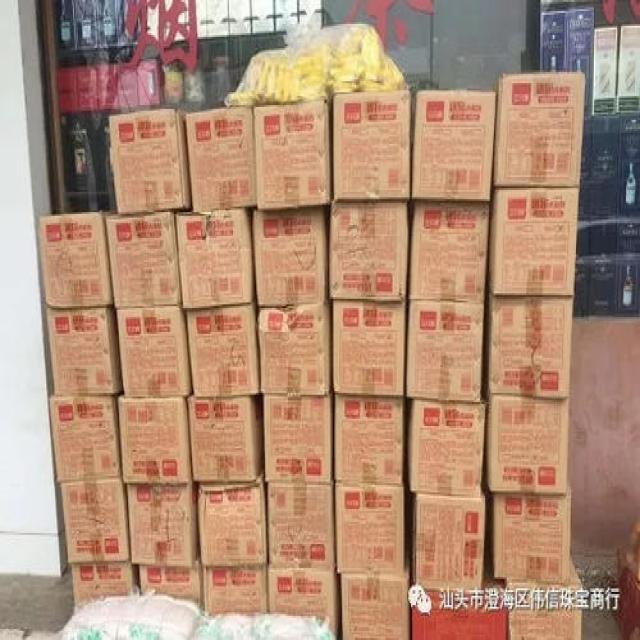box: (486, 189, 580, 298), (495, 71, 581, 187), (484, 286, 573, 398), (412, 90, 496, 202), (483, 390, 570, 496), (252, 103, 335, 210), (171, 207, 257, 309), (110, 110, 194, 214), (405, 295, 485, 403), (333, 92, 413, 198), (493, 479, 572, 584), (408, 202, 490, 301), (413, 487, 487, 593), (251, 205, 327, 307), (405, 400, 487, 494), (328, 202, 408, 298), (331, 296, 406, 398), (188, 104, 258, 212), (197, 467, 269, 569), (103, 212, 181, 304), (38, 211, 115, 304), (117, 304, 194, 396), (186, 301, 261, 395), (47, 391, 122, 483), (259, 301, 330, 397), (125, 483, 201, 570), (118, 397, 193, 485), (333, 395, 406, 485), (48, 304, 120, 395), (188, 397, 265, 482), (505, 553, 582, 638), (338, 551, 411, 637), (412, 573, 506, 638), (334, 484, 405, 570), (263, 395, 333, 482), (266, 482, 336, 569), (59, 484, 129, 566), (269, 568, 340, 637), (133, 553, 202, 607), (59, 46, 84, 193), (77, 46, 101, 191), (95, 45, 119, 190), (71, 561, 139, 612), (565, 2, 595, 116), (609, 526, 639, 638), (590, 113, 619, 220), (592, 2, 619, 115), (202, 571, 267, 614), (591, 221, 618, 315), (613, 219, 639, 312), (618, 0, 639, 110), (619, 109, 639, 219), (136, 40, 165, 112), (535, 4, 565, 69), (573, 223, 590, 316), (579, 114, 593, 223), (118, 42, 139, 112), (115, 0, 144, 45), (74, 1, 98, 49), (54, 1, 76, 46), (95, 1, 116, 44), (87, 190, 114, 210), (66, 191, 88, 209)
